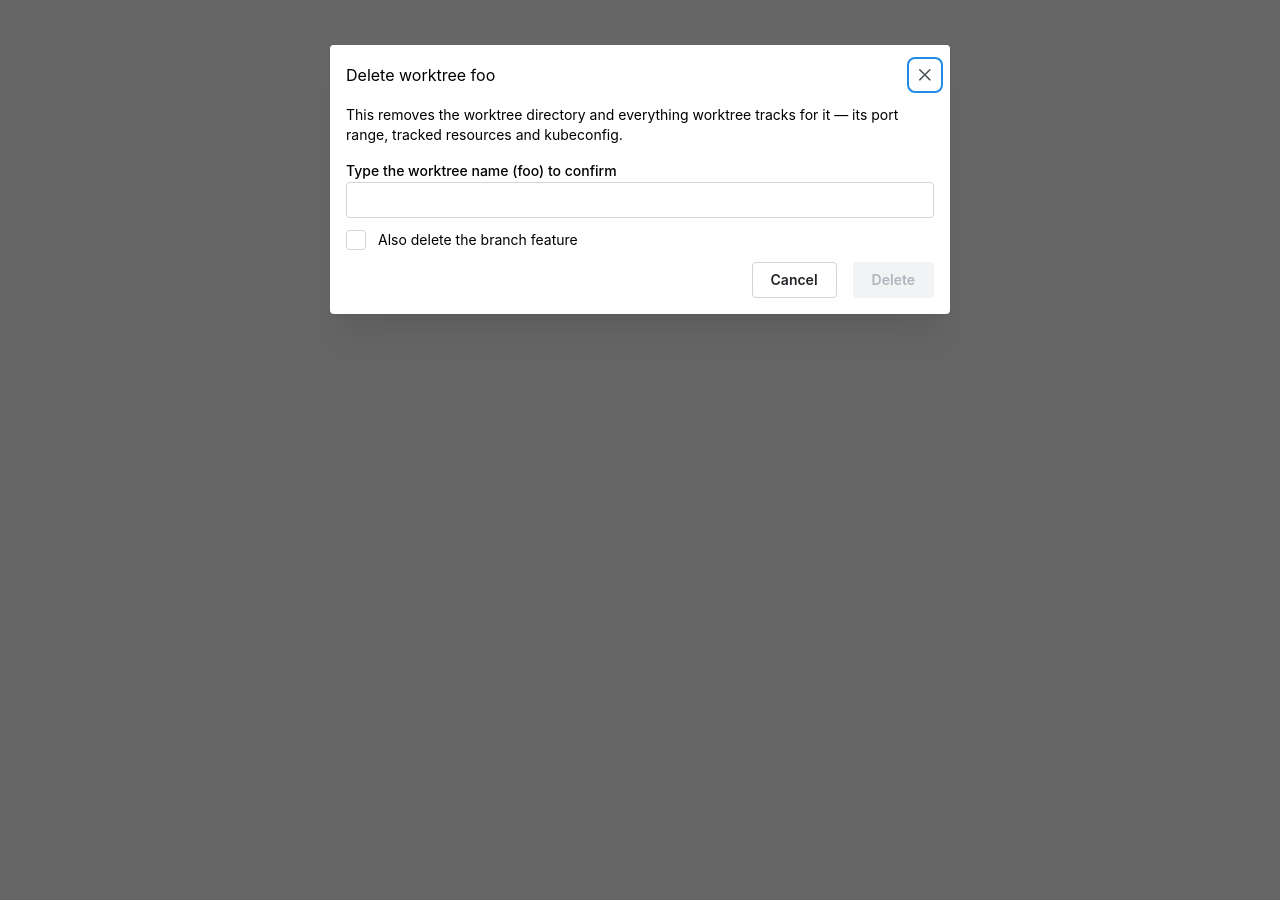
Test case: DeleteWorktreeModal › renders a stage per step once the run reports
Step 1. Type "foo" into the field labelled "Type the worktree name (foo) to confirm" → (640, 200), box [346,182,934,218]
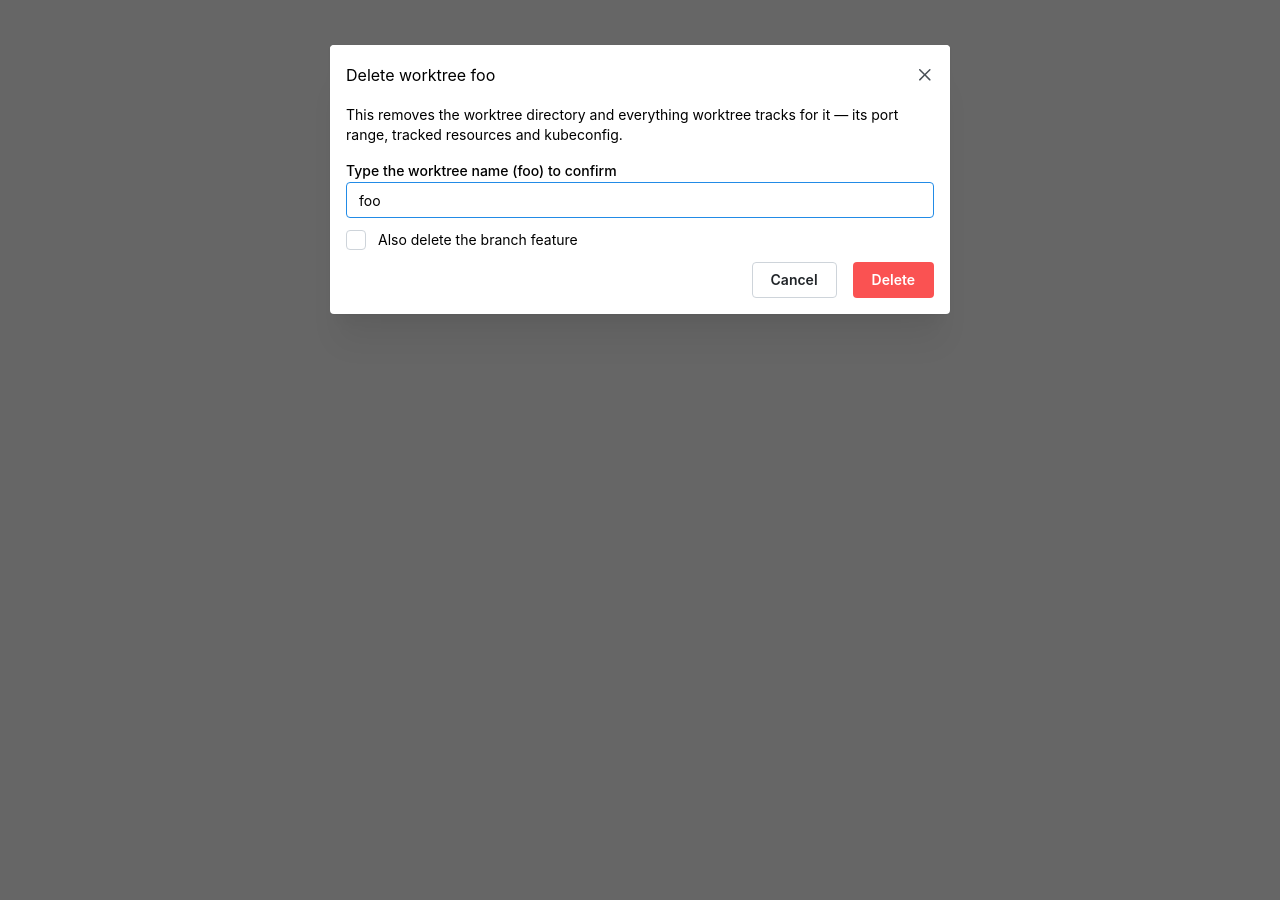
Step 2. Click the button "Delete" → click(893, 280), box [853,262,934,298]
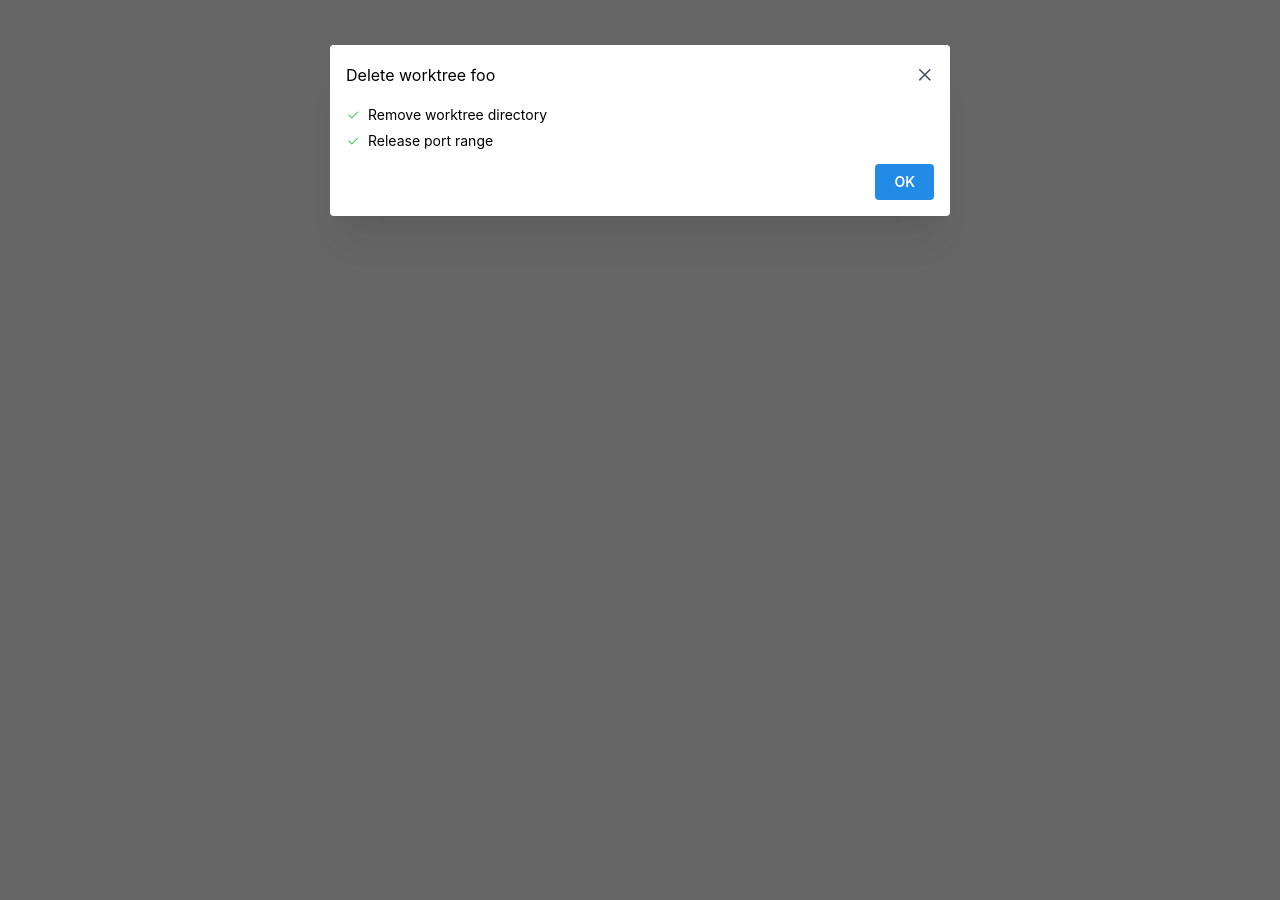
Expected: the text "Remove worktree directory" is shown, [368,105,547,125]
Expected: the text "Release port range" is shown, [368,131,493,152]
